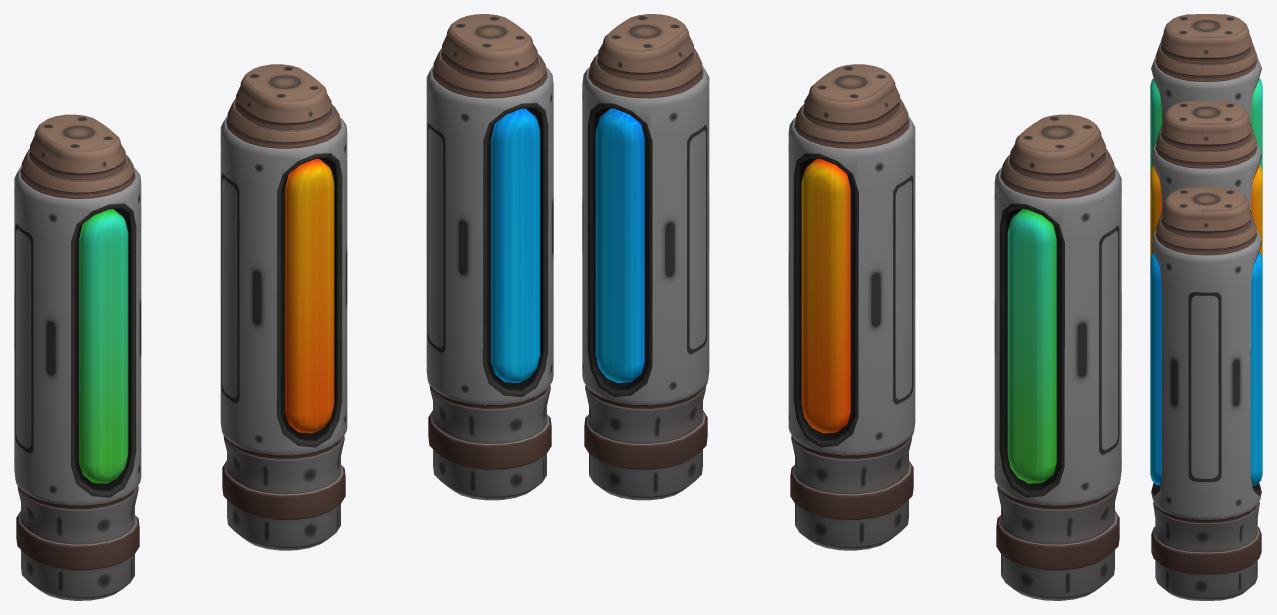
File: Cylinder_Sci_Fi_1.obj
3 views of the same model, side by side, from view 1: azimuth 30°, elevation 25°; view 2: azimuth 150°, elevation 25°; view 3: azimuth 270°, elevation 25° (orthographic). The views are drawn at different scales.
Visible parts, largest first — view 1: Cylinder_Sci_Fi_1_3, Cylinder_Sci_Fi_1_1, Cylinder_Sci_Fi_1_2; view 2: Cylinder_Sci_Fi_1_3, Cylinder_Sci_Fi_1_1, Cylinder_Sci_Fi_1_2; view 3: Cylinder_Sci_Fi_1_2, Cylinder_Sci_Fi_1_1, Cylinder_Sci_Fi_1_3.
Part boxes in pixels (x1,y1,x2,y2): Cylinder_Sci_Fi_1_3: (14,114,141,600); Cylinder_Sci_Fi_1_1: (220,64,347,550); Cylinder_Sci_Fi_1_2: (426,14,553,500); Cylinder_Sci_Fi_1_3: (994,114,1121,600); Cylinder_Sci_Fi_1_1: (788,64,915,550); Cylinder_Sci_Fi_1_2: (582,14,709,500); Cylinder_Sci_Fi_1_2: (1150,187,1262,600); Cylinder_Sci_Fi_1_1: (1150,100,1262,258); Cylinder_Sci_Fi_1_3: (1150,14,1262,171).
Bounding box in the file's own units: 126 × 104 × 27.43.
Materials: 3 (3 with a texture image).
